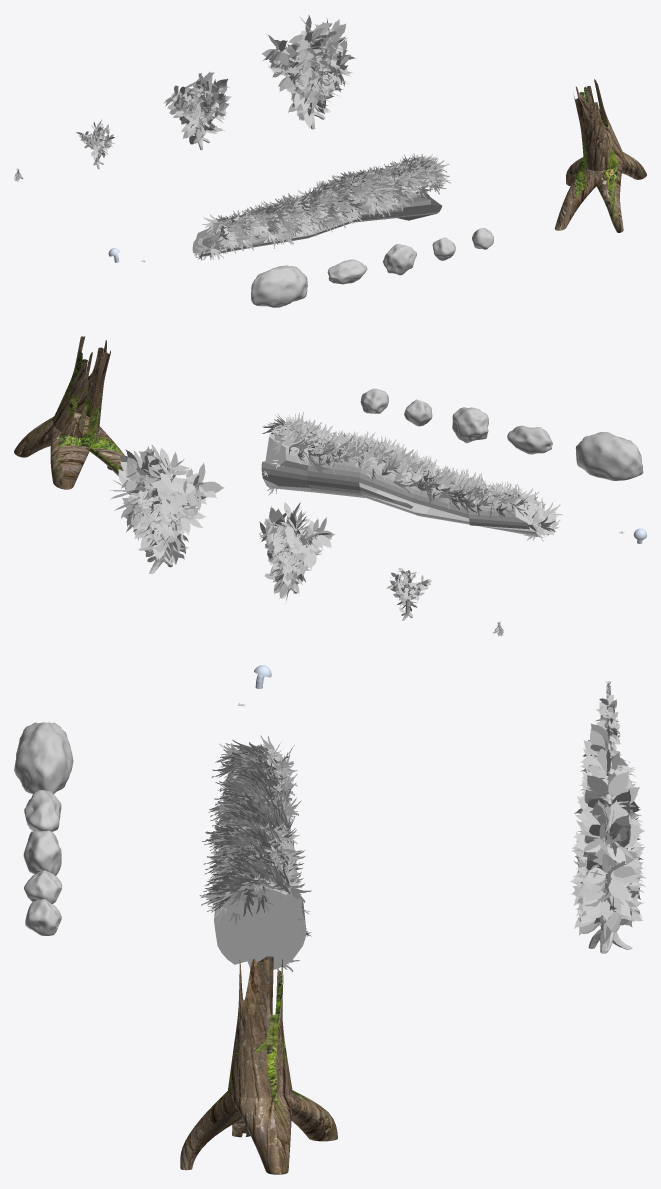
The model's file is troncos pela floresta.fbx.
3 views of the same model, one above another, from view 1: azimuth 30°, elevation 25°; view 2: azimuth 150°, elevation 25°; view 3: azimuth 270°, elevation 25° (orthographic). The views are drawn at different scales.
Parts seen in each view (by area): view 1: Cylinder.001, Cube, Cylinder, Cube.001, Icosphere.004, Cube.002, Icosphere.002, Icosphere.003; view 2: Cylinder.001, Cube, Cylinder, Cube.001, Icosphere.004, Cube.002, Icosphere.002, Icosphere.003, Icosphere, Icosphere.001; view 3: Cylinder.001, Cylinder, Cube, Icosphere.004, Cube.001, Icosphere.002, Icosphere.003, Icosphere, Icosphere.001, Cube.002.
Part boxes in pixels (x1,y1,x2,y2): Cylinder.001: (192, 153, 450, 260); Cube: (261, 15, 355, 129); Cylinder: (554, 79, 646, 232); Cube.001: (164, 71, 231, 150); Icosphere.004: (251, 265, 307, 307); Cube.002: (76, 119, 114, 169); Icosphere.002: (383, 244, 416, 275); Icosphere.003: (327, 259, 367, 284); Cylinder.001: (261, 412, 562, 541); Cube: (110, 444, 224, 573); Cylinder: (14, 336, 124, 489); Cube.001: (259, 502, 334, 600); Icosphere.004: (575, 432, 643, 480); Cube.002: (386, 568, 431, 620); Icosphere.002: (452, 407, 488, 443); Icosphere.003: (507, 425, 552, 454); Icosphere: (360, 388, 388, 413); Icosphere.001: (404, 399, 432, 426); Cylinder.001: (199, 735, 311, 972); Cylinder: (180, 956, 337, 1174); Cube: (570, 771, 646, 953); Icosphere.004: (14, 722, 73, 794); Cube.001: (579, 723, 637, 817); Icosphere.002: (23, 830, 61, 875); Icosphere.003: (24, 790, 61, 831); Icosphere: (25, 899, 61, 935); Icosphere.001: (24, 870, 62, 903); Cube.002: (595, 694, 620, 754).
Size of the model in its own units: 3352 by 927 by 2141.
